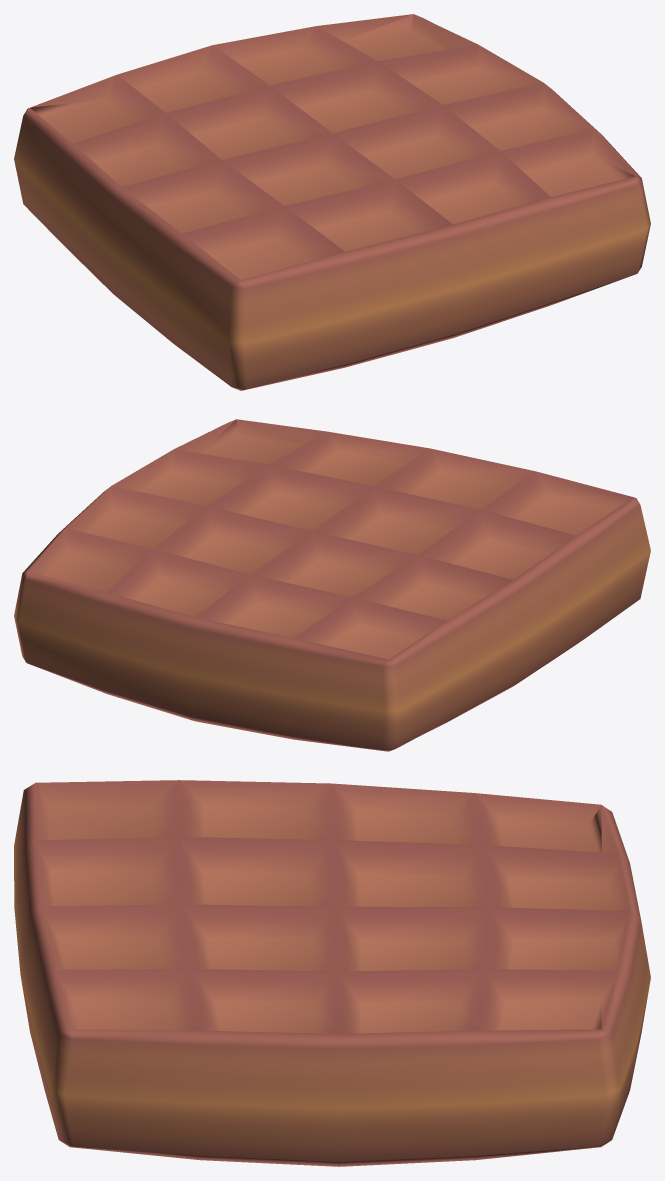
Rendered from Boxed Bread.fbx.
3 renders of one model, top to bottom at view 1: azimuth 30°, elevation 25°; view 2: azimuth 150°, elevation 25°; view 3: azimuth 270°, elevation 25°, orthographic. The views are drawn at different scales.
Parts seen in each view (by area): view 1: Boxed Bread; view 2: Boxed Bread; view 3: Boxed Bread.
Part boxes in pixels (x1,y1,x2,y2): Boxed Bread: (14,14,650,390); Boxed Bread: (14,419,650,751); Boxed Bread: (14,780,650,1166).
Bounding box in the file's own units: 27.71 × 6.98 × 27.71.
